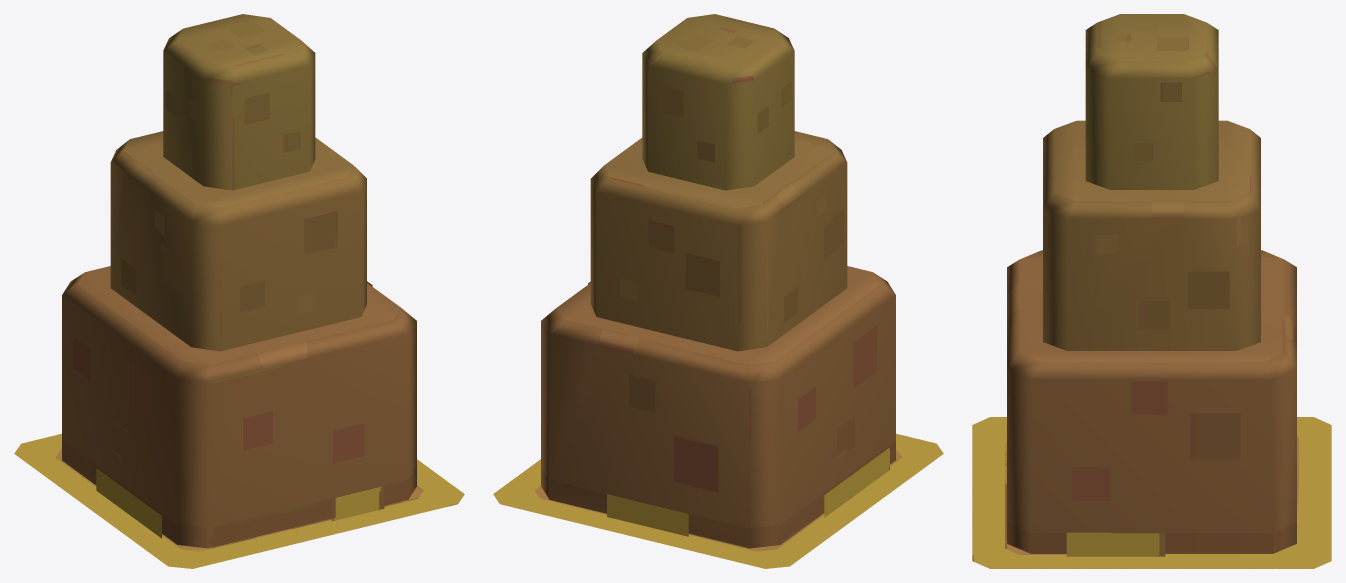
Rendered from B_mountain1_rock02.fbx.
3 renders of one model, left to right at view 1: azimuth 30°, elevation 25°; view 2: azimuth 150°, elevation 25°; view 3: azimuth 270°, elevation 25°, orthographic. The views are drawn at different scales.
Parts seen in each view (by area): view 1: model 1, model; view 2: model 1, model; view 3: model 1, model.
Boxes of the visible parts, x1,y1,x2,y2 form: model 1: (14,14,463,568); model: (14,433,464,568); model 1: (494,14,943,568); model: (493,433,943,568); model 1: (972,14,1331,568); model: (972,417,1331,568).
Size of the model in its own units: 4.96 by 6.97 by 4.96.
Materials: 1 (1 with a texture image).
